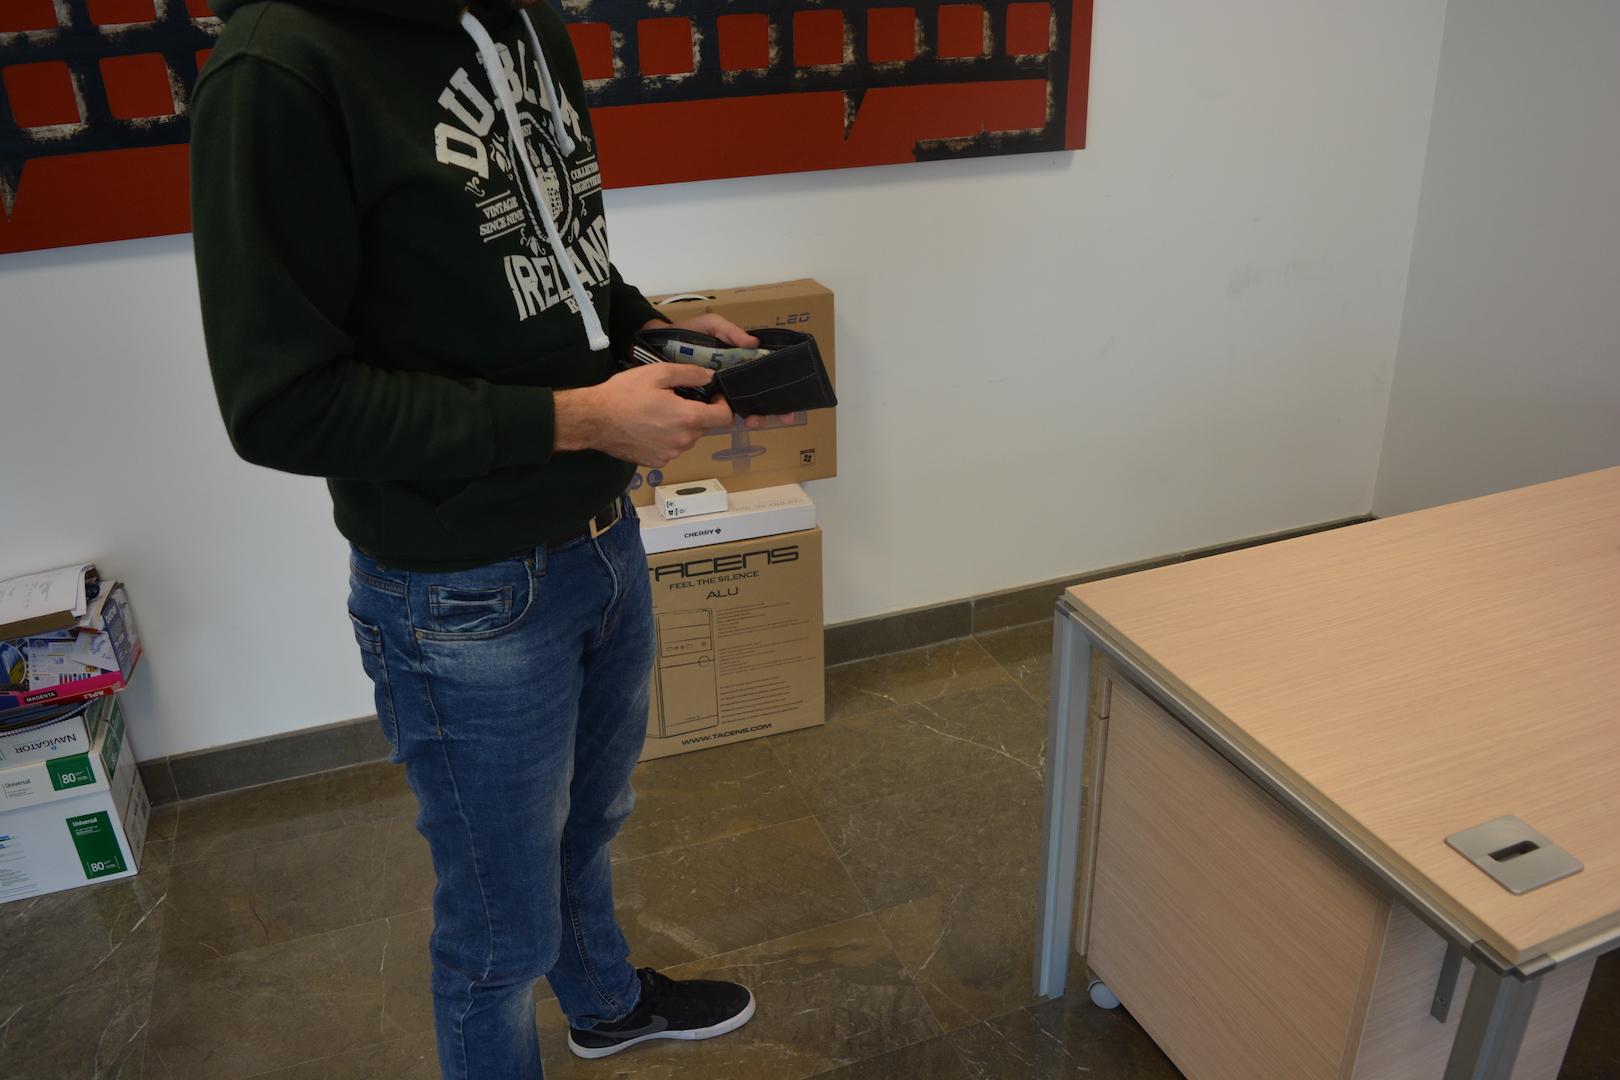monedero: (620, 327, 839, 419)
